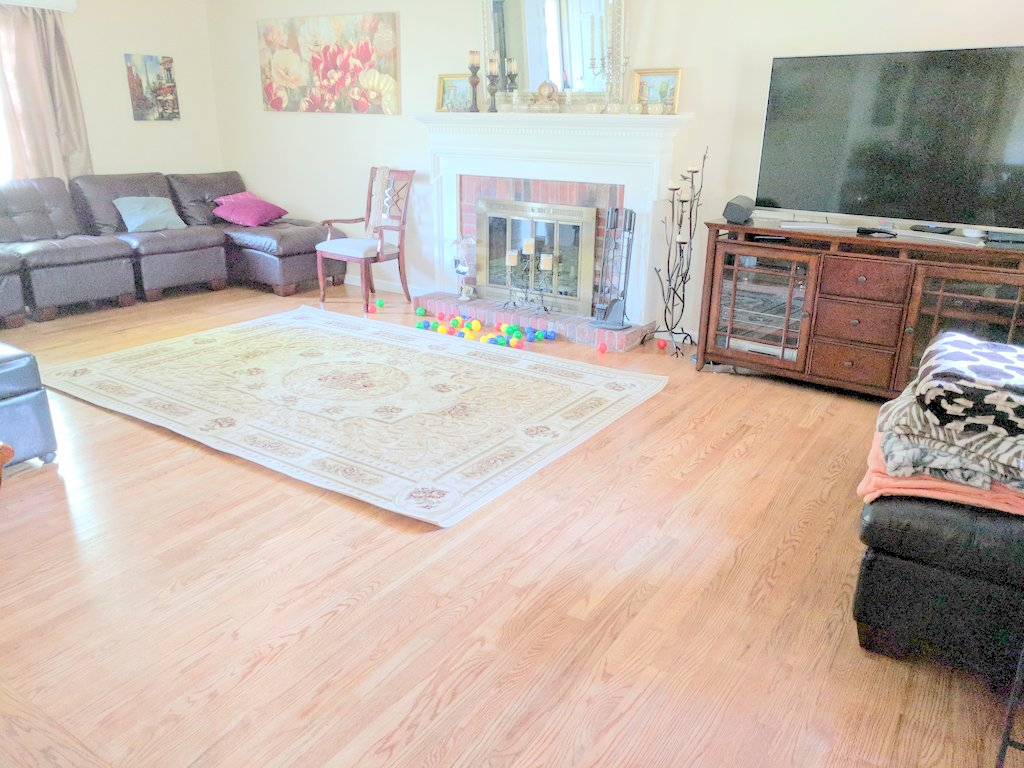ball: (445, 325, 455, 335)
